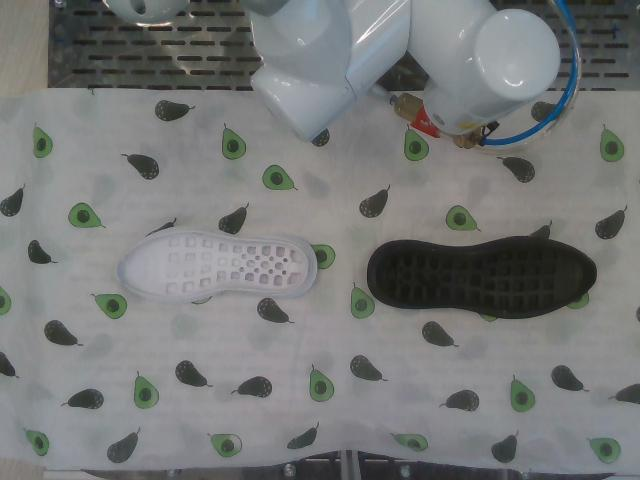shoes: (376, 243, 596, 312), (117, 232, 307, 298)
